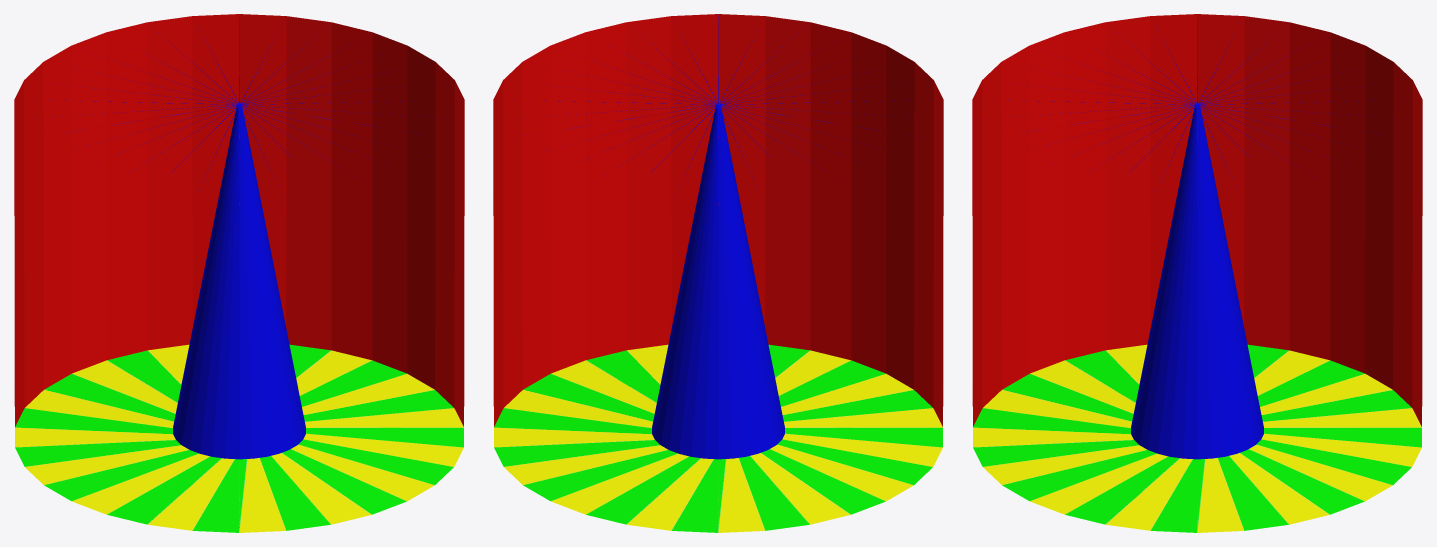
3 renders of one model, left to right at view 1: azimuth 30°, elevation 25°; view 2: azimuth 150°, elevation 25°; view 3: azimuth 270°, elevation 25°, orthographic.
Parts seen in each view (by area): view 1: algeomath (1); view 2: algeomath (1); view 3: algeomath (1).
Boxes of the visible parts, x1=… form: algeomath (1): x1=14, y1=14, x2=464, y2=532; algeomath (1): x1=493, y1=14, x2=943, y2=532; algeomath (1): x1=972, y1=14, x2=1422, y2=532.
Size of the model in its own units: 0.3 by 0.2433 by 0.2984.
Materials: 1 (1 with a texture image).
